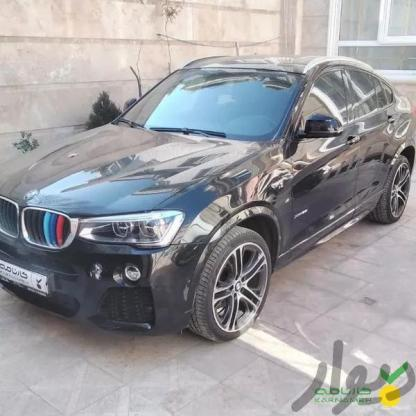Car: (0, 40, 410, 343)
